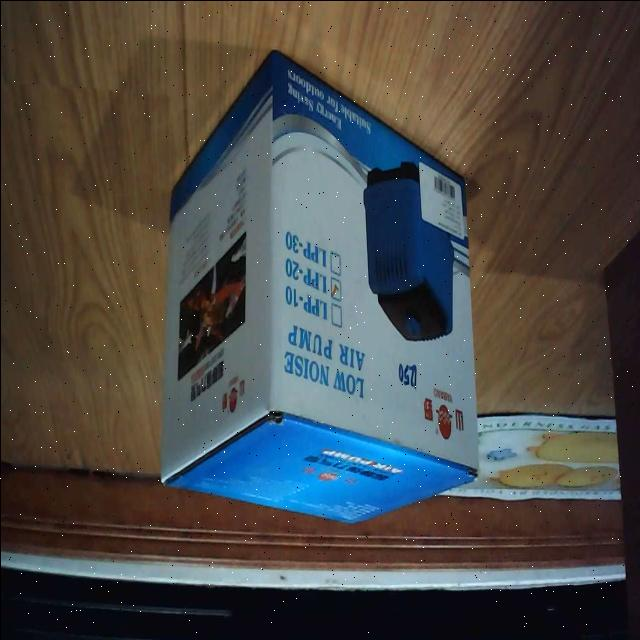YAMANO_LPP_20: (148, 21, 488, 530)
